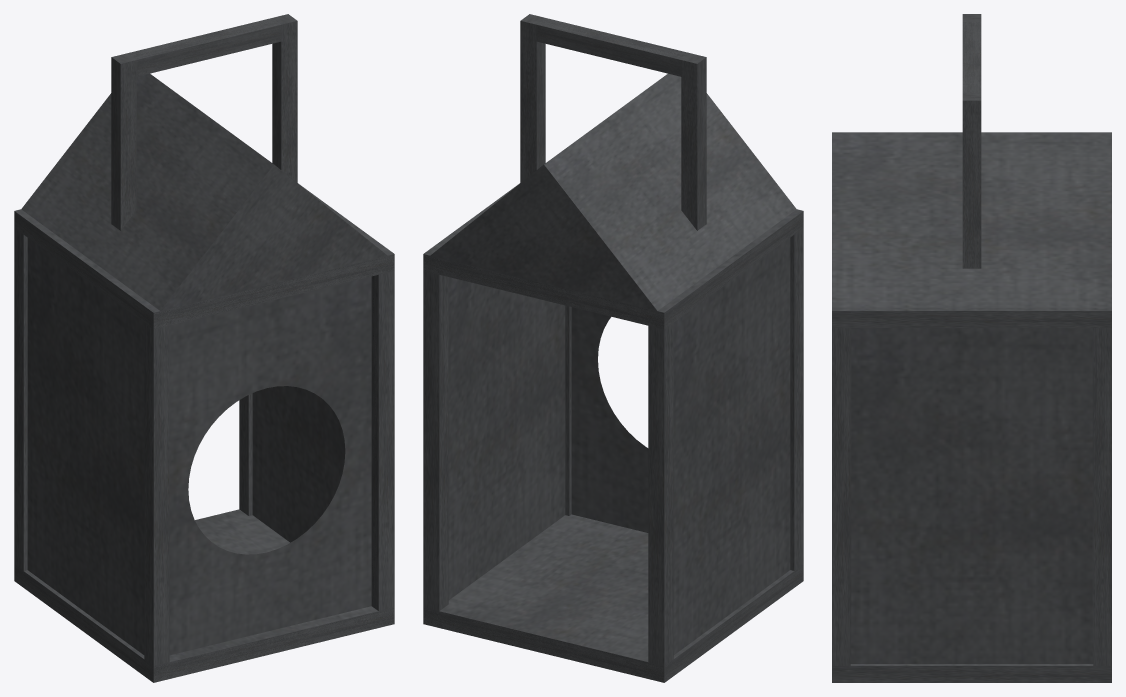
Rendered from lantern_metal.obj.
3 renders of one model, left to right at view 1: azimuth 30°, elevation 25°; view 2: azimuth 150°, elevation 25°; view 3: azimuth 270°, elevation 25°, orthographic.
Parts seen in each view (by area): view 1: Cube.010_Cube.023, Cube.002, Cube.009, Cube.012_Cube.001, Cube.006, Cube.007, Cube.005, Cube.011_Cube.013, Cube.004, Cube.016_Cube.021, Cube.015_Cube.020, Cube (+1 smaller); view 2: Cube.002, Cube.009, Cube.012_Cube.001, Cube.006, Cube.010_Cube.023, Cube.004, Cube.003, Cube.011_Cube.013, Cube.007, Cube.016_Cube.021, Cube.015_Cube.020, Cube (+1 smaller); view 3: Cube.012_Cube.001, Cube.002, Cube.003, Cube.005, Cube.011_Cube.013, Cube.006, Cube.015_Cube.020, Cube.
Part boxes in pixels (x1,y1,x2,y2): Cube.010_Cube.023: [169, 276, 376, 655]; Cube.002: [21, 73, 387, 310]; Cube.009: [27, 238, 144, 654]; Cube.012_Cube.001: [252, 386, 345, 542]; Cube.006: [14, 509, 394, 682]; Cube.007: [144, 323, 169, 665]; Cube.005: [371, 271, 394, 610]; Cube.011_Cube.013: [14, 183, 394, 329]; Cube.004: [14, 228, 27, 570]; Cube.016_Cube.021: [111, 53, 136, 230]; Cube.015_Cube.020: [272, 14, 297, 182]; Cube: [128, 18, 281, 76]; Cube.002: [430, 73, 796, 310]; Cube.009: [673, 238, 790, 654]; Cube.012_Cube.001: [448, 277, 565, 599]; Cube.006: [423, 514, 803, 682]; Cube.010_Cube.023: [571, 307, 648, 532]; Cube.004: [648, 323, 673, 665]; Cube.003: [423, 271, 448, 610]; Cube.011_Cube.013: [423, 183, 803, 329]; Cube.007: [790, 228, 803, 570]; Cube.016_Cube.021: [681, 53, 706, 230]; Cube.015_Cube.020: [520, 14, 545, 182]; Cube: [536, 18, 689, 76]; Cube.012_Cube.001: [850, 328, 1093, 663]; Cube.002: [832, 132, 1111, 307]; Cube.003: [1093, 328, 1111, 665]; Cube.005: [832, 328, 850, 665]; Cube.011_Cube.013: [832, 307, 1111, 327]; Cube.006: [832, 664, 1111, 682]; Cube.015_Cube.020: [962, 93, 981, 268]; Cube: [962, 22, 981, 92].
Size of the model in its own units: 0.3 by 0.67 by 0.3.
Materials: 3 (3 with a texture image).
